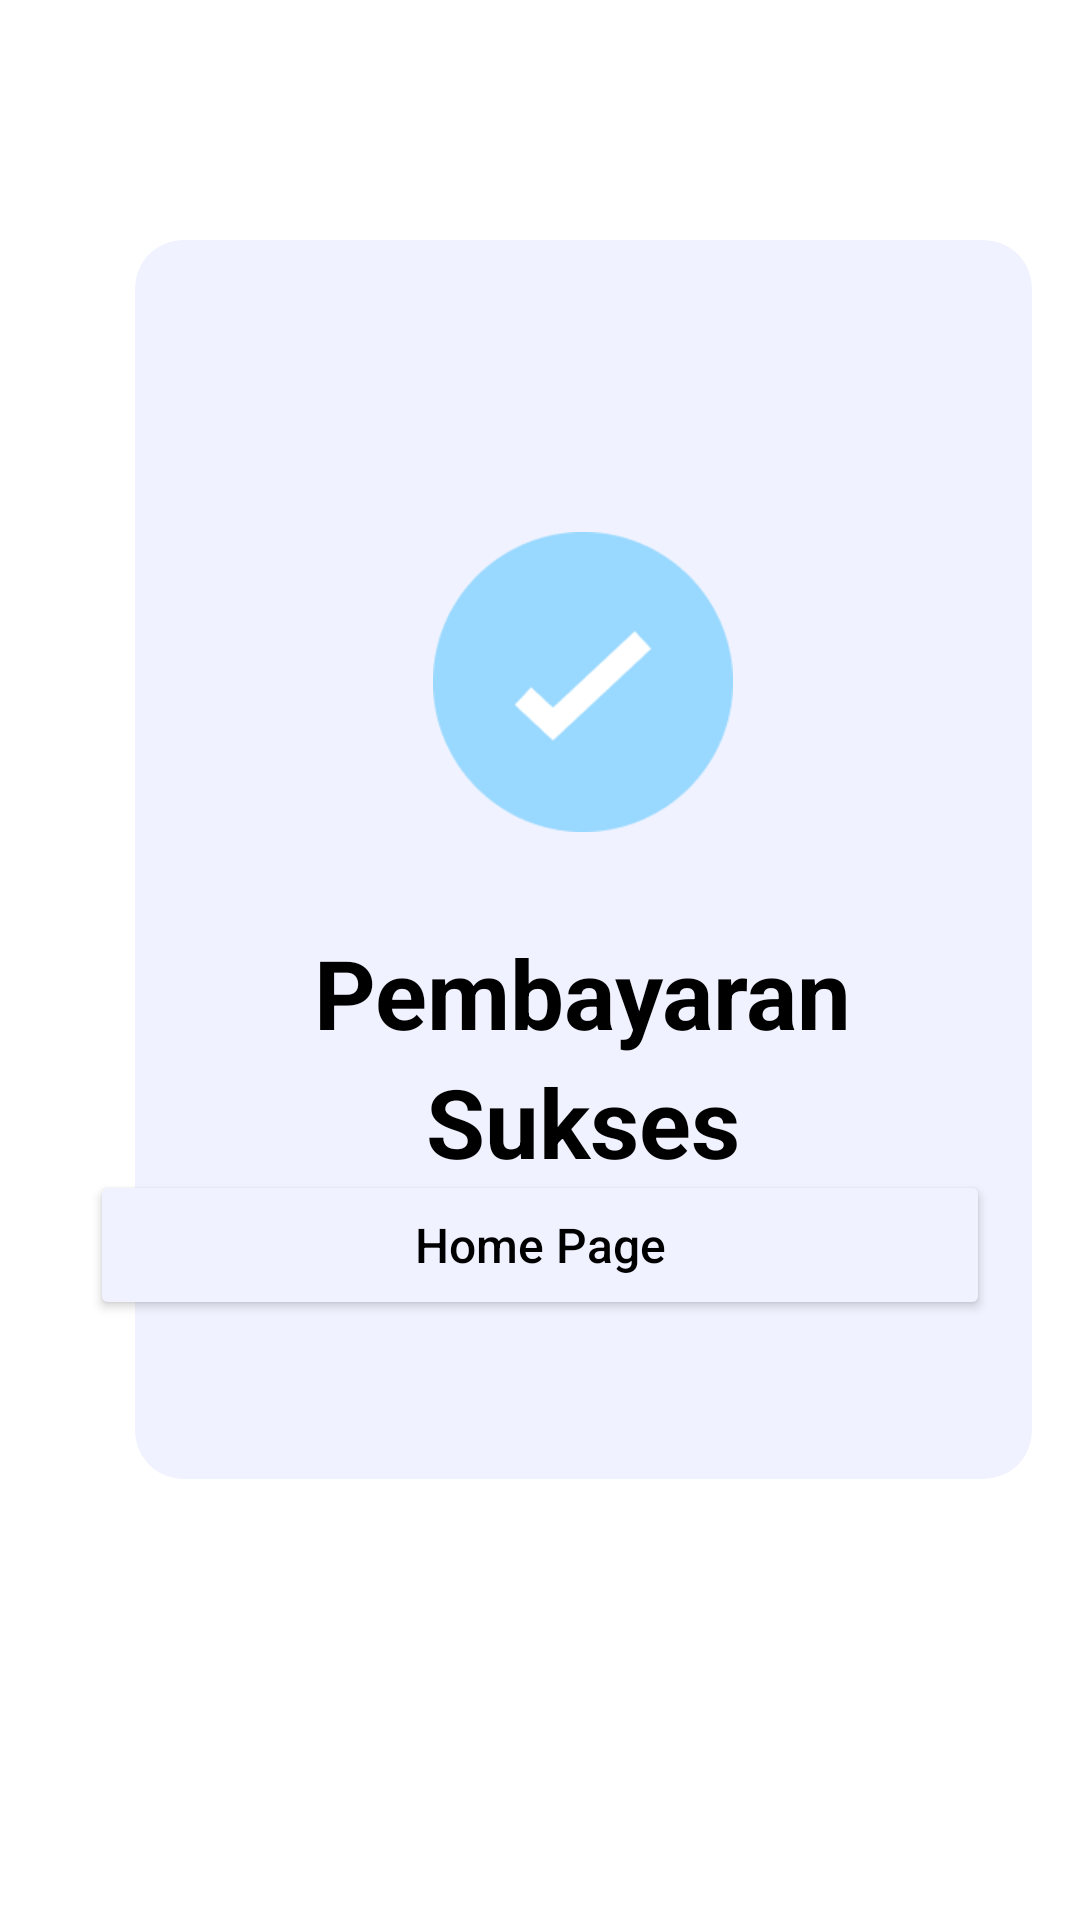

Point at icon controls on the screen. Image size 1080 x 1920, points as (x=x, y=y).
succes: (x=583, y=682)
